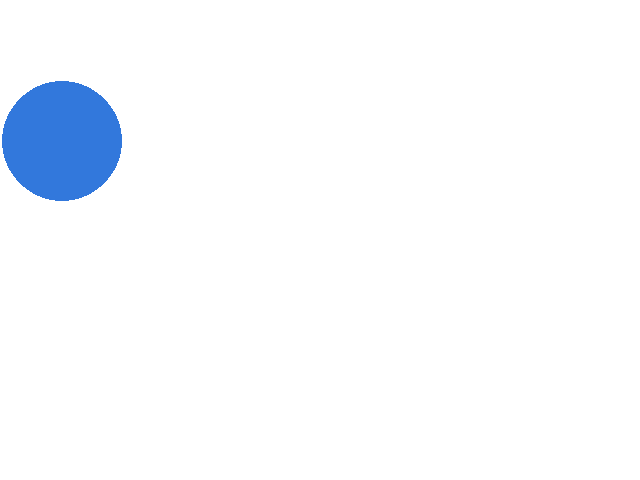fsoc_target: (2, 81, 122, 201)
